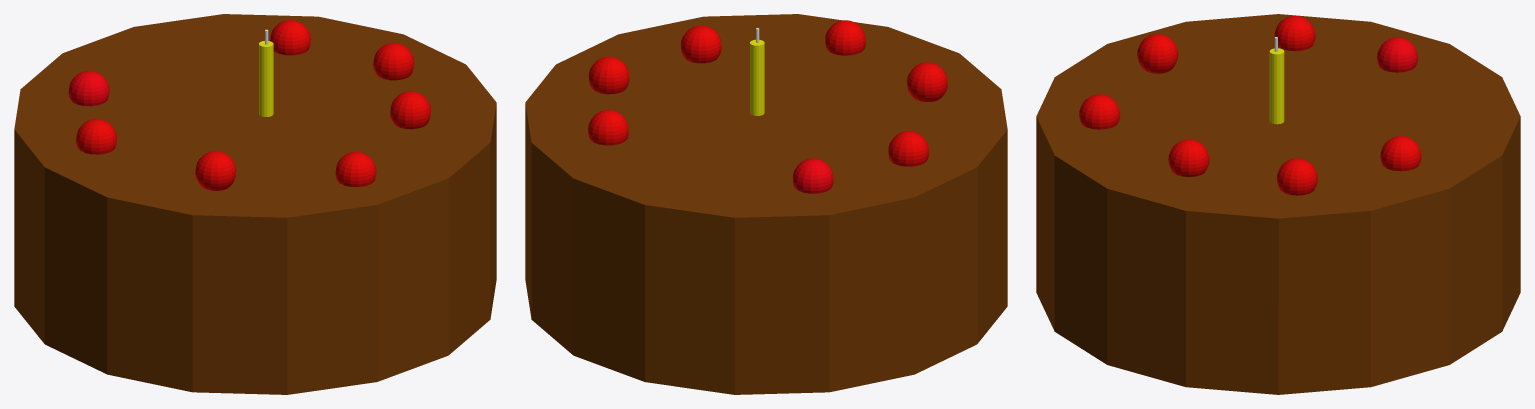
The picture shows the model from 3 angles, left to right: view 1: azimuth 30°, elevation 25°; view 2: azimuth 150°, elevation 25°; view 3: azimuth 270°, elevation 25°; orthographic projection.
Visible parts, largest first — view 1: Cylinder, Sphere.004, Sphere.006, Sphere.007, Sphere.003, Sphere.002, Sphere.005, Sphere, Cylinder.001; view 2: Cylinder, Sphere.004, Sphere.006, Sphere.007, Sphere.003, Sphere, Sphere.002, Sphere.005, Cylinder.001; view 3: Cylinder, Sphere.004, Sphere.006, Sphere.007, Sphere, Sphere.005, Sphere.002, Sphere.003, Cylinder.001.
Part boxes in pixels (bbox=[...]): Cylinder: bbox=[14, 14, 496, 394]; Sphere.004: bbox=[195, 151, 236, 190]; Sphere.006: bbox=[390, 91, 430, 129]; Sphere.007: bbox=[373, 43, 414, 80]; Sphere.003: bbox=[76, 119, 116, 154]; Sphere.002: bbox=[68, 70, 109, 106]; Sphere.005: bbox=[335, 151, 376, 186]; Sphere: bbox=[270, 20, 310, 55]; Cylinder.001: bbox=[259, 41, 273, 116]; Cylinder: bbox=[525, 14, 1007, 394]; Sphere.004: bbox=[907, 62, 947, 101]; Sphere.006: bbox=[680, 25, 721, 63]; Sphere.007: bbox=[588, 56, 629, 94]; Sphere.003: bbox=[888, 131, 929, 166]; Sphere: bbox=[588, 110, 628, 145]; Sphere.002: bbox=[792, 158, 833, 193]; Sphere.005: bbox=[825, 20, 865, 55]; Cylinder.001: bbox=[750, 39, 764, 115]; Cylinder: bbox=[1036, 14, 1520, 394]; Sphere.004: bbox=[1137, 34, 1178, 73]; Sphere.006: bbox=[1168, 139, 1209, 176]; Sphere.007: bbox=[1276, 158, 1317, 195]; Sphere: bbox=[1380, 136, 1421, 171]; Sphere.005: bbox=[1079, 94, 1120, 129]; Sphere.002: bbox=[1377, 37, 1417, 72]; Sphere.003: bbox=[1274, 15, 1315, 51]; Cylinder.001: bbox=[1269, 48, 1284, 124].
Size of the model in its own units: 200 by 118 by 200.
